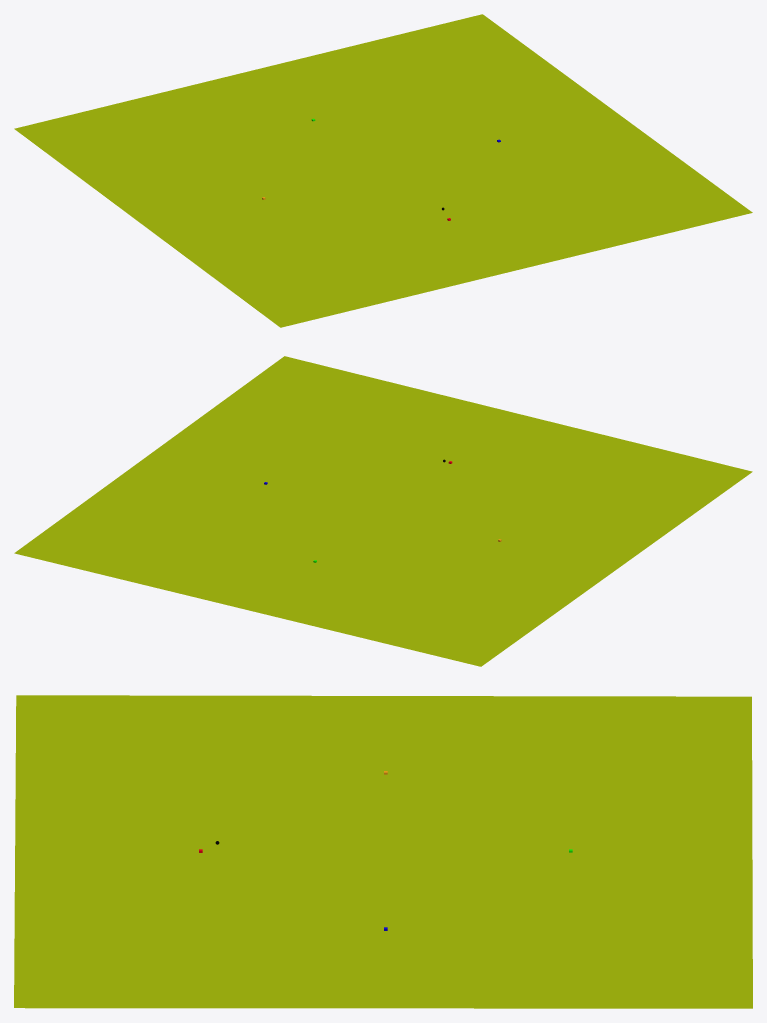
The picture shows the model from 3 angles, top to bottom: view 1: azimuth 30°, elevation 25°; view 2: azimuth 150°, elevation 25°; view 3: azimuth 270°, elevation 25°; orthographic projection. The views are drawn at different scales.
Visible parts, largest first — view 1: Surface; view 2: Surface; view 3: Surface.
Part boxes in pixels (x1,y1,x2,y2): Surface: [14, 14, 752, 327]; Surface: [14, 356, 752, 666]; Surface: [14, 695, 752, 1008].
Size of the model in its own units: 201 by 3.63 by 200.
